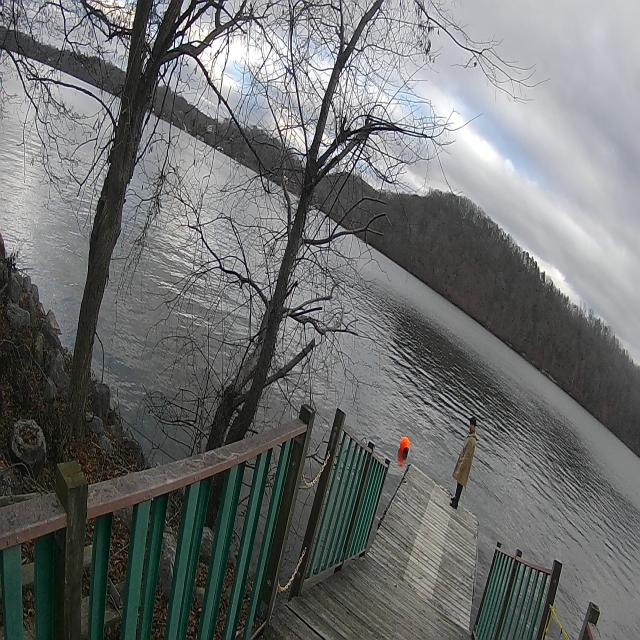Buoy: (399, 434, 411, 462)
